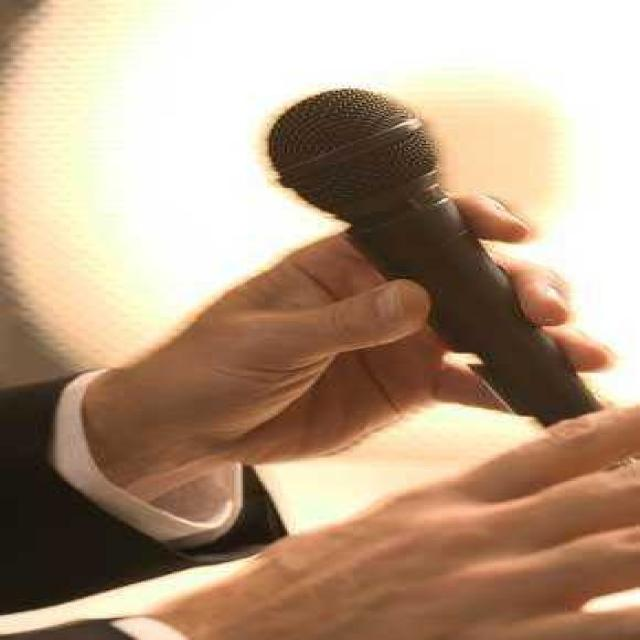microphone: (264, 87, 614, 447)
